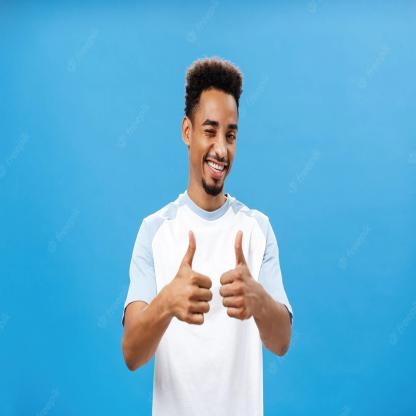Thumbs-Up: (217, 220, 263, 330), (174, 228, 214, 335)
